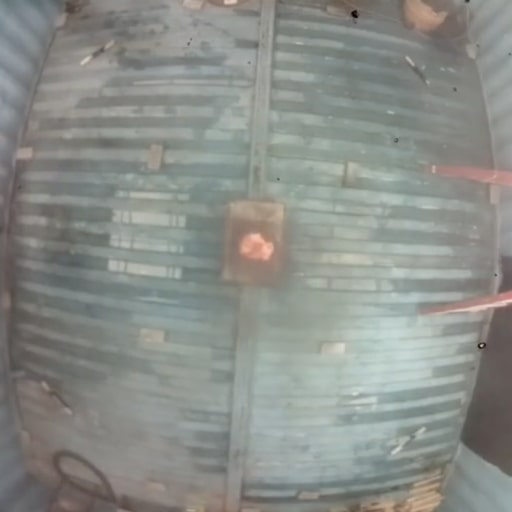Fire: (238, 232, 276, 261)
